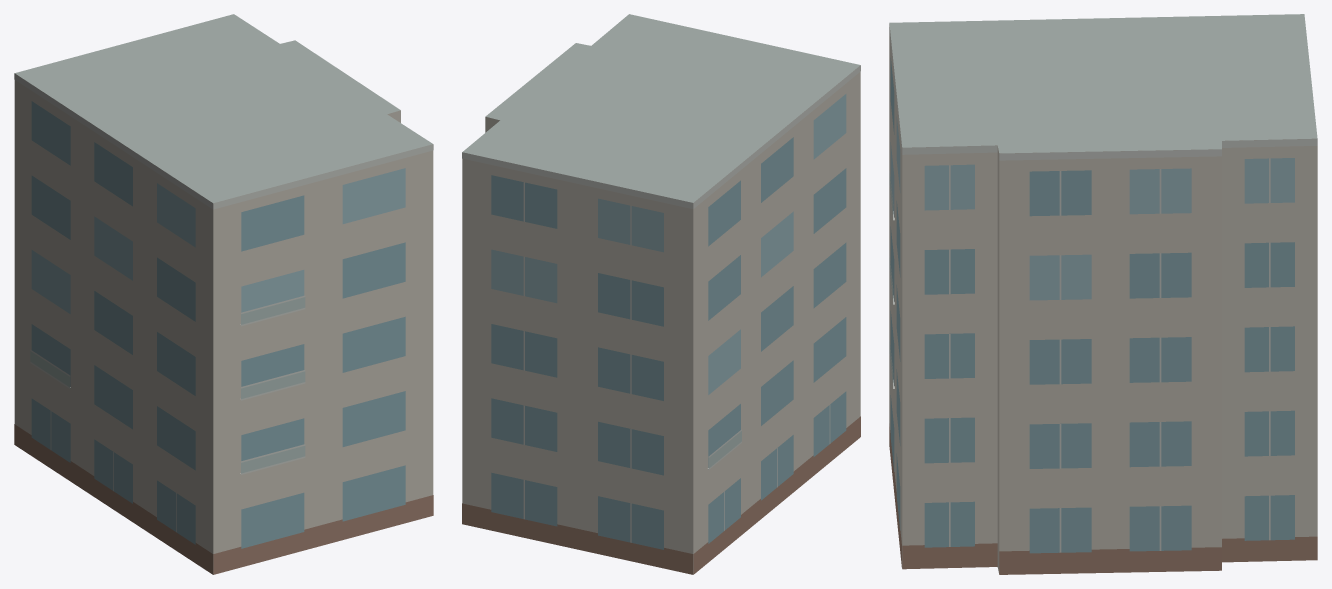
The model's file is survey-upis-32872901.glb.
3 views of the same model, side by side, from view 1: azimuth 30°, elevation 25°; view 2: azimuth 150°, elevation 25°; view 3: azimuth 270°, elevation 25° (orthographic). The views are drawn at different scales.
Visible parts, largest first — view 1: survey-upis-32872901.tmp; view 2: survey-upis-32872901.tmp; view 3: survey-upis-32872901.tmp.
Boxes of the visible parts, x1,y1,x2,y2 form: survey-upis-32872901.tmp: (14, 14, 433, 574); survey-upis-32872901.tmp: (462, 14, 860, 574); survey-upis-32872901.tmp: (889, 14, 1317, 574).
Bounding box in the file's own units: 10.15 × 14.3 × 13.18.
